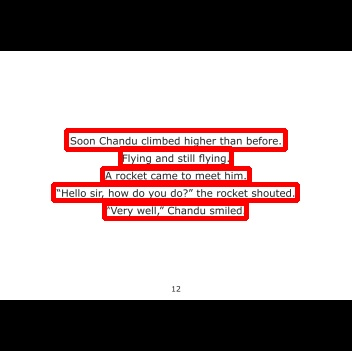latin: (66, 130, 285, 149), (53, 184, 297, 200), (104, 203, 246, 218), (102, 168, 249, 182), (120, 148, 231, 166)
